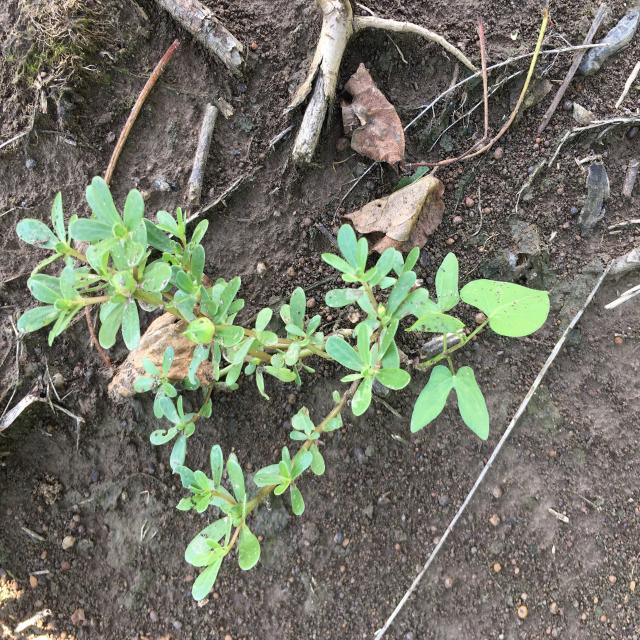MorningGlory: (404, 253, 550, 440)
Purslane: (17, 175, 429, 600)
